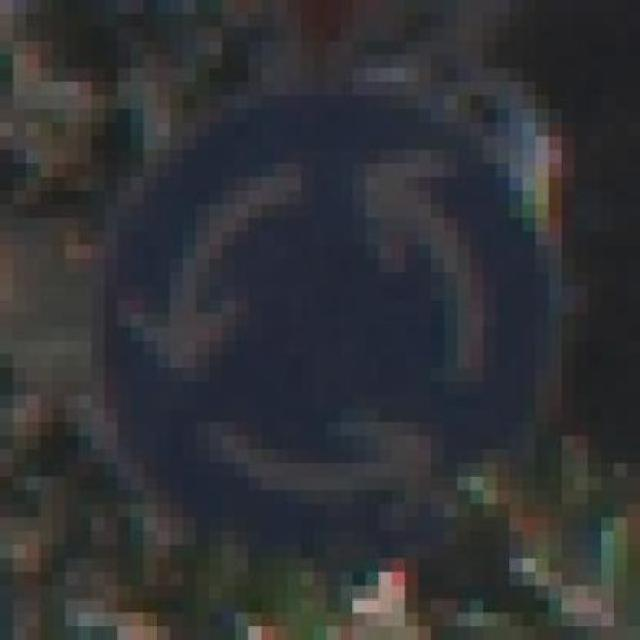Round-About: (66, 82, 574, 586)
